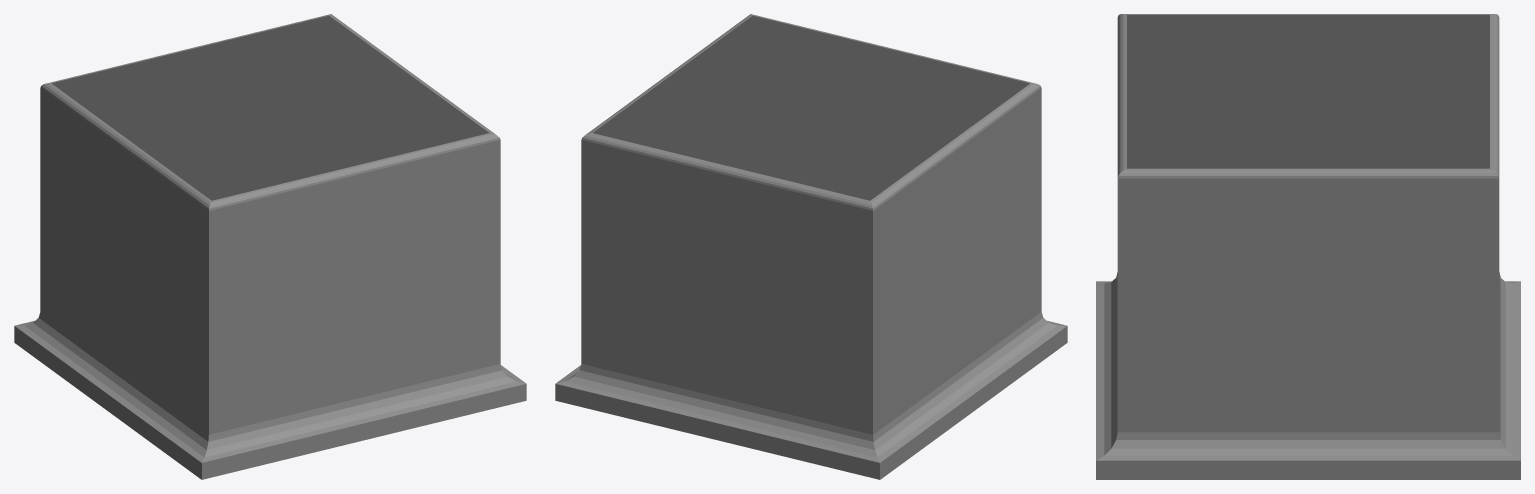
File: Forbid.fbx
3 renders of one model, left to right at view 1: azimuth 30°, elevation 25°; view 2: azimuth 150°, elevation 25°; view 3: azimuth 270°, elevation 25°, orthographic. The views are drawn at different scales.
Parts seen in each view (by area): view 1: 立方体; view 2: 立方体; view 3: 立方体.
Boxes of the visible parts, left/top/right/bottom form: 立方体: left=14, top=14, right=526, bottom=479; 立方体: left=555, top=14, right=1067, bottom=479; 立方体: left=1096, top=14, right=1520, bottom=479.
Size of the model in its own units: 100 by 77.5 by 100.
2 materials, 1 textured.
